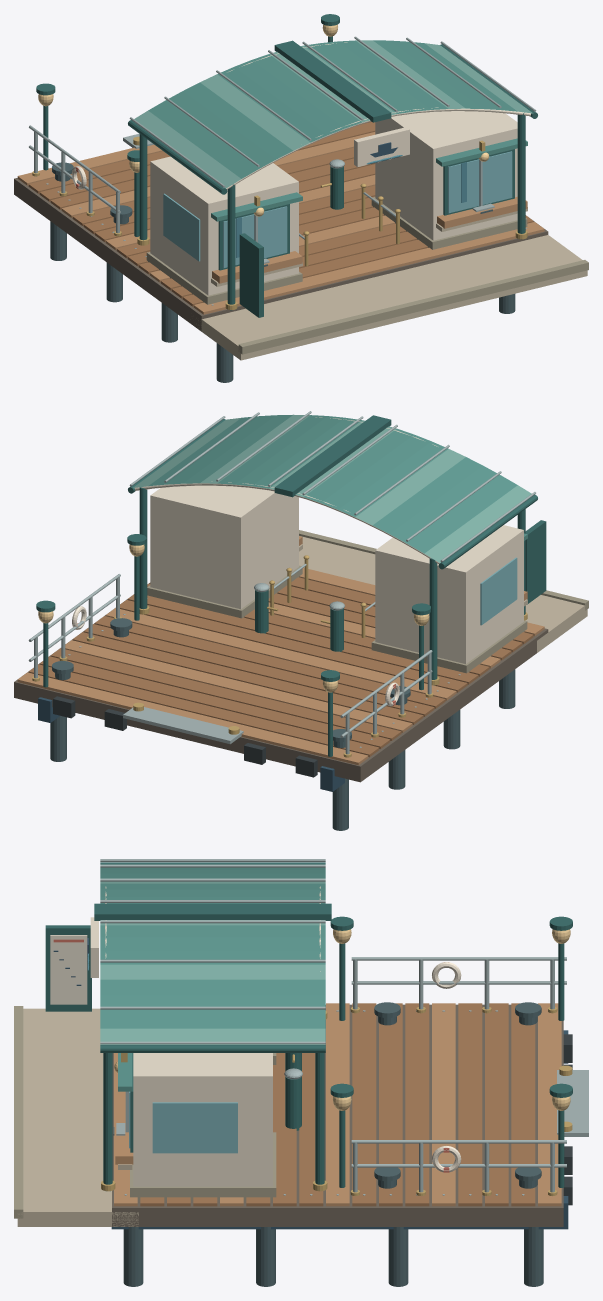
Rendered from bay_ferry_pier.glb.
The picture shows the model from 3 angles, top to bottom: view 1: azimuth 30°, elevation 25°; view 2: azimuth 150°, elevation 25°; view 3: azimuth 270°, elevation 25°; orthographic projection. The views are drawn at different scales.
Visible parts, largest first — view 1: shore_limestone_apron, ticket_booth_body_right, ticket_booth_body_left, pier_structural_deck, shore_curb_satin, oak_deck_plank_00, ticket_window_glass_right, roof_central_crest, curved_jade_roof_-1_07, curved_jade_roof_-1_05, curved_jade_roof_-1_04, curved_jade_roof_-1_06 (+50 smaller); view 2: ticket_booth_body_right, ticket_booth_body_left, pier_structural_deck, shore_limestone_apron, oak_deck_plank_12, oak_deck_plank_13, oak_deck_plank_11, oak_deck_plank_08, oak_deck_plank_16, oak_deck_plank_07, oak_deck_plank_15, oak_deck_plank_14 (+43 smaller); view 3: shore_limestone_apron, pier_structural_deck, ticket_booth_body_right, oak_deck_plank_13, oak_deck_plank_11, oak_deck_plank_09, oak_deck_plank_14, oak_deck_plank_12, booth_side_window_right, oak_deck_plank_15, curved_jade_roof_1_07, roof_central_crest (+49 smaller).
Part boxes in pixels (x1,y1,x2,y2): shore_limestone_apron: (190, 235, 587, 360); ticket_booth_body_right: (375, 111, 517, 240); ticket_booth_body_left: (150, 156, 298, 295); pier_structural_deck: (14, 178, 548, 331); shore_curb_satin: (238, 260, 588, 354); oak_deck_plank_00: (193, 222, 544, 314); ticket_window_glass_right: (448, 151, 512, 213); roof_central_crest: (274, 40, 391, 122); curved_jade_roof_-1_07: (148, 100, 258, 178); curved_jade_roof_-1_05: (183, 82, 292, 159); curved_jade_roof_-1_04: (200, 74, 310, 150); curved_jade_roof_-1_06: (165, 91, 275, 168); ticket_booth_body_right: (150, 485, 298, 609); ticket_booth_body_left: (375, 525, 523, 663); pier_structural_deck: (14, 583, 548, 782); shore_limestone_apron: (299, 536, 587, 652); oak_deck_plank_12: (65, 640, 412, 732); oak_deck_plank_13: (50, 648, 401, 740); oak_deck_plank_11: (72, 632, 423, 724); oak_deck_plank_08: (105, 608, 456, 700); oak_deck_plank_16: (17, 672, 368, 765); oak_deck_plank_07: (120, 600, 467, 692); oak_deck_plank_15: (28, 664, 379, 757); oak_deck_plank_14: (39, 656, 390, 748); shore_limestone_apron: (17, 1008, 138, 1226); pier_structural_deck: (112, 1004, 563, 1226); ticket_booth_body_right: (133, 1053, 272, 1186); oak_deck_plank_13: (458, 1003, 482, 1206); oak_deck_plank_11: (405, 1003, 429, 1206); oak_deck_plank_09: (352, 1003, 376, 1206); oak_deck_plank_14: (485, 1003, 508, 1206); oak_deck_plank_12: (432, 1003, 455, 1206); booth_side_window_right: (152, 1102, 237, 1153); oak_deck_plank_15: (511, 1003, 535, 1206); curved_jade_roof_1_07: (100, 1011, 325, 1028); roof_central_crest: (94, 903, 331, 920).
Size of the model in its own units: 8.72 by 5.82 by 10.41.
